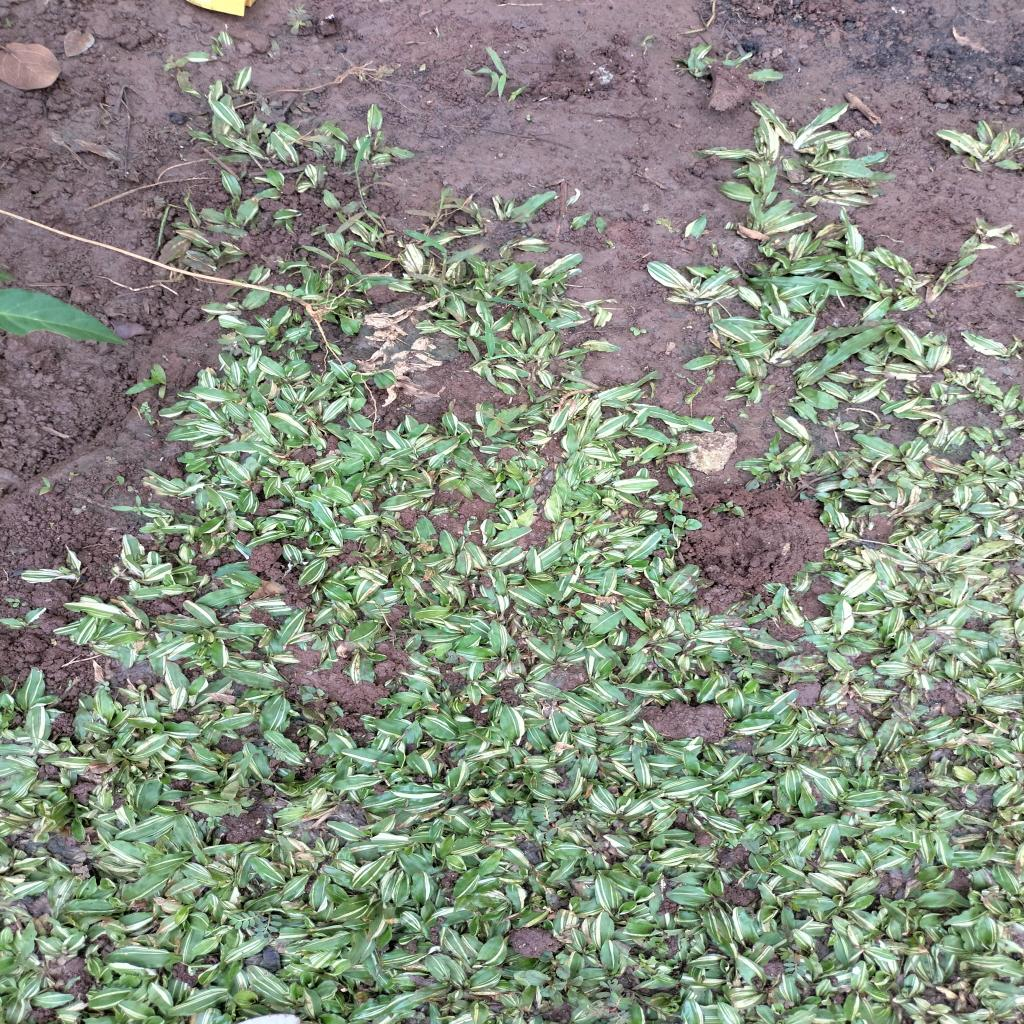bayi: (97, 679, 112, 692), (314, 444, 323, 456), (68, 678, 74, 687)
buah daun: (524, 797, 574, 844), (228, 905, 286, 940), (591, 978, 639, 1014), (774, 943, 815, 981), (214, 330, 252, 358), (285, 2, 313, 38), (727, 651, 758, 680), (254, 740, 291, 764), (742, 600, 782, 620)
rambat atas: (465, 320, 537, 376), (480, 296, 568, 336), (354, 135, 390, 232), (401, 228, 469, 275), (294, 242, 364, 278), (353, 218, 387, 250), (484, 44, 514, 79), (436, 188, 458, 218), (483, 68, 500, 98), (494, 72, 508, 100)
rambat bawah: (745, 262, 888, 303), (812, 318, 913, 372), (122, 360, 173, 401)
tunggang besar: (470, 402, 524, 438), (187, 795, 259, 821)
ungu tunggang: (515, 948, 584, 998), (712, 496, 748, 520), (670, 513, 706, 533), (658, 488, 688, 512)
